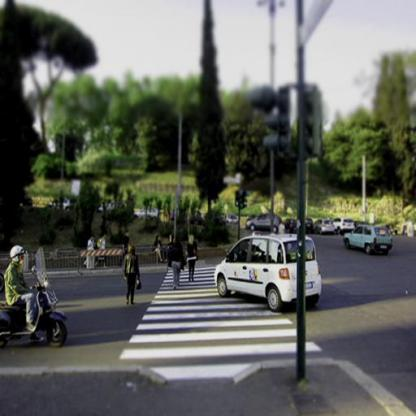crosswalk: (122, 317, 303, 344), (148, 289, 265, 306)
